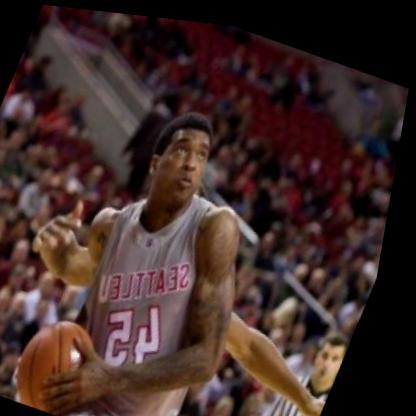basketball: (13, 301, 126, 416)
